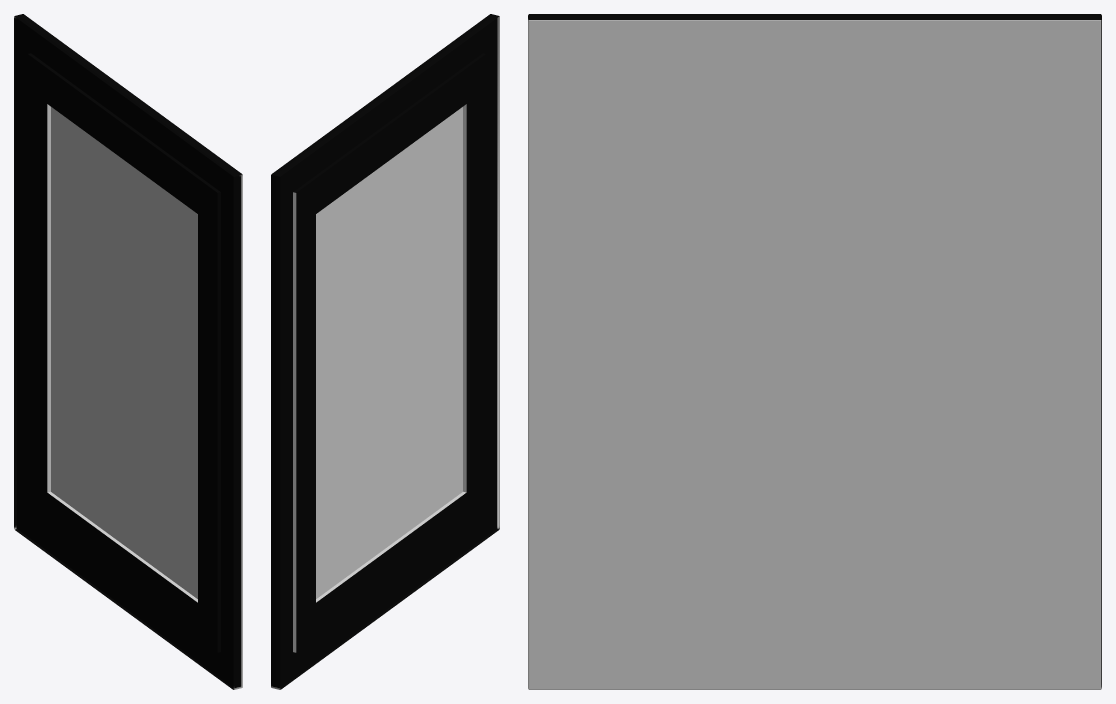
Rendered from VerticalPhotoFrame.fbx.
3 views of the same model, side by side, from view 1: azimuth 30°, elevation 25°; view 2: azimuth 150°, elevation 25°; view 3: azimuth 270°, elevation 25° (orthographic). The views are drawn at different scales.
Visible parts, largest first — view 1: Photoframevertical_high; view 2: Photoframevertical_high; view 3: Photoframevertical_high.
Boxes of the visible parts, x1,y1,x2,y2 form: Photoframevertical_high: (14,14,242,689); Photoframevertical_high: (271,14,499,689); Photoframevertical_high: (528,14,1101,689).
Bounding box in the file's own units: 2.69 × 123 × 95.57.
1 material, 1 textured.
